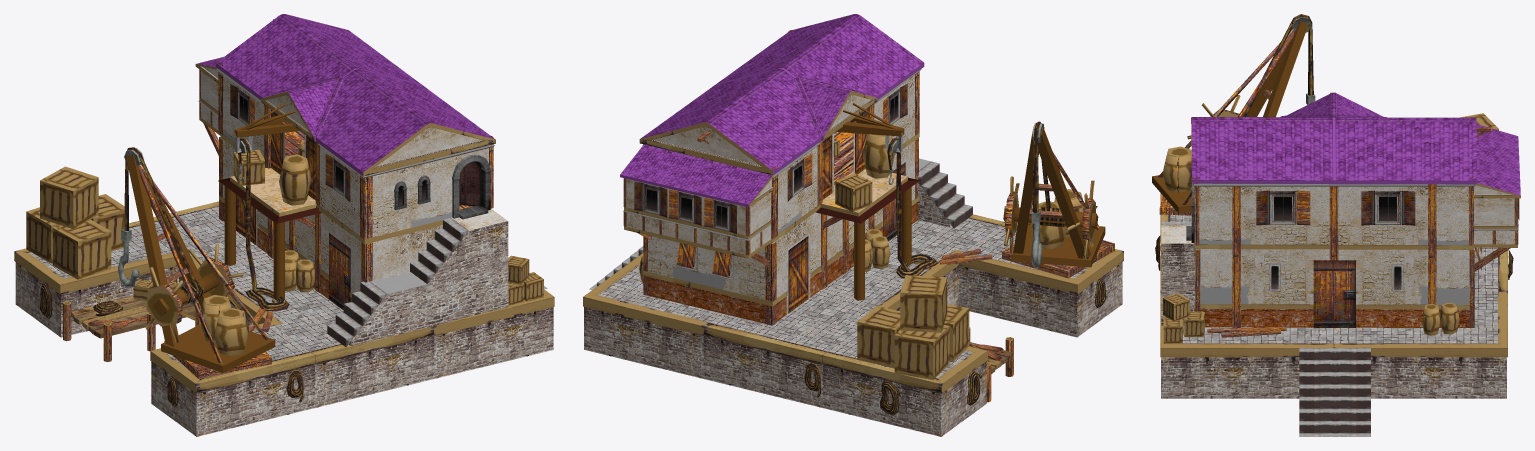
Rendered from RomanDock.FBX.
The picture shows the model from 3 angles, left to right: view 1: azimuth 30°, elevation 25°; view 2: azimuth 150°, elevation 25°; view 3: azimuth 270°, elevation 25°; orthographic projection. The views are drawn at different scales.
Visible parts, largest first — view 1: rome_dock; view 2: rome_dock; view 3: rome_dock.
Part boxes in pixels (left/top/right/bottom): rome_dock: left=14, top=14, right=554, bottom=436; rome_dock: left=583, top=14, right=1123, bottom=436; rome_dock: left=1152, top=14, right=1520, bottom=436.
Size of the model in its own units: 66.14 by 36.44 by 51.18.
